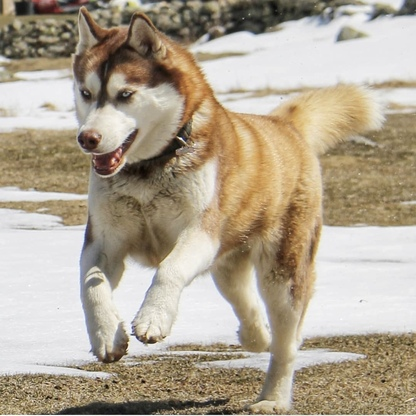husky: (65, 4, 389, 416)
